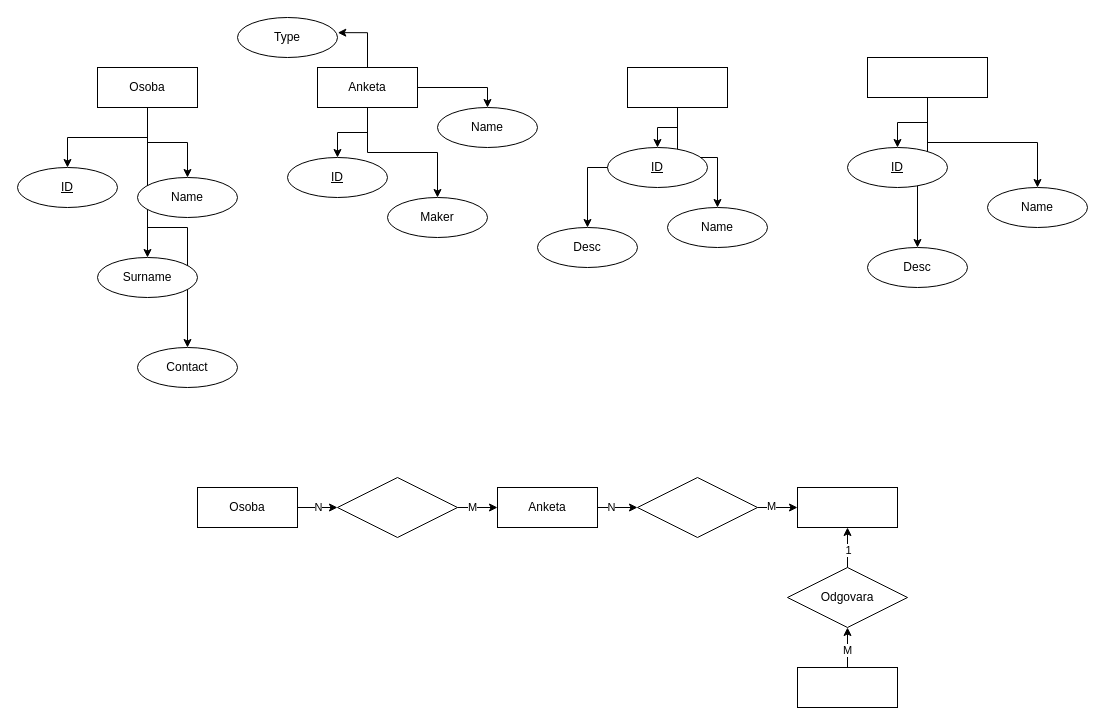
The diagram is 1105 pixels wide and 725 high, and some of its shapes have lost their labels. The box of each missing label's shape, as (x1, y1, x2, y2) in pixels:
AnkentnaPitanja: (626, 66, 728, 108)
AnkentniOdgovori: (866, 56, 988, 98)
AnketnaPitanja: (796, 486, 898, 528)
AnketniOdgovori: (796, 666, 898, 708)
Rješava: (336, 476, 458, 538)
Sadrži: (636, 476, 758, 538)
